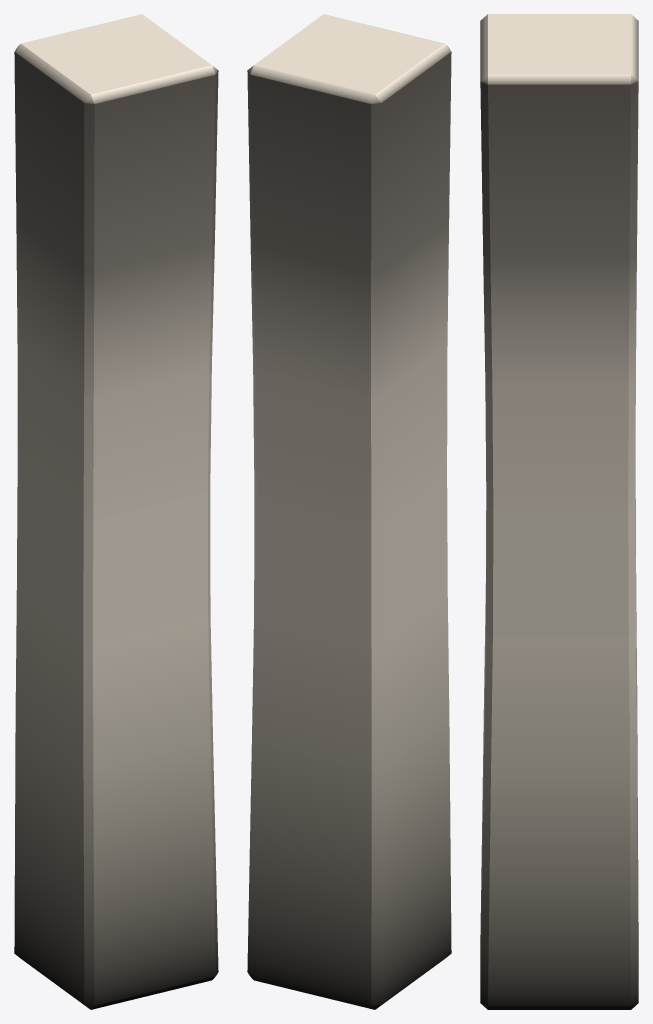
The model's file is SM_VKI_Post_Wattle_Corner_Full.fbx.
The picture shows the model from 3 angles, left to right: view 1: azimuth 30°, elevation 25°; view 2: azimuth 150°, elevation 25°; view 3: azimuth 270°, elevation 25°; orthographic projection. The views are drawn at different scales.
Parts seen in each view (by area): view 1: SM_VKI_Post_Wattle_Corner_Full.001; view 2: SM_VKI_Post_Wattle_Corner_Full.001; view 3: SM_VKI_Post_Wattle_Corner_Full.001.
Boxes of the visible parts, x1,y1,x2,y2 form: SM_VKI_Post_Wattle_Corner_Full.001: (14,14,218,1009); SM_VKI_Post_Wattle_Corner_Full.001: (247,14,451,1009); SM_VKI_Post_Wattle_Corner_Full.001: (480,14,638,1009).
Size of the model in its own units: 0.42 by 2.74 by 0.42.
